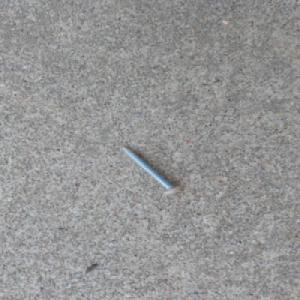Screw: (119, 144, 184, 195)
